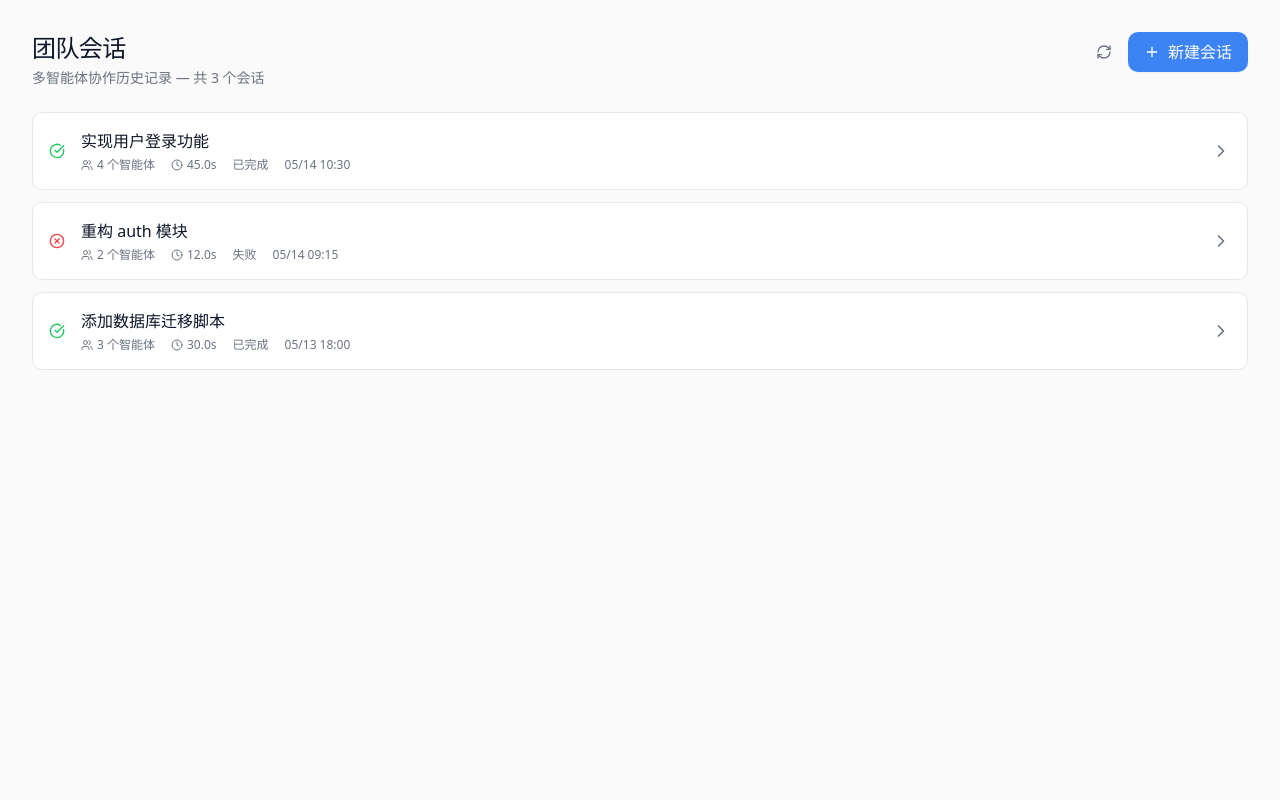
Test: TeamSessionsPage › edge cases › handles empty agent_results in detail modal
What coordinates should you click on to do the following:
click the text "实现用户登录功能"
I would click on:
 (145, 141)
Its box is [81, 130, 209, 152].
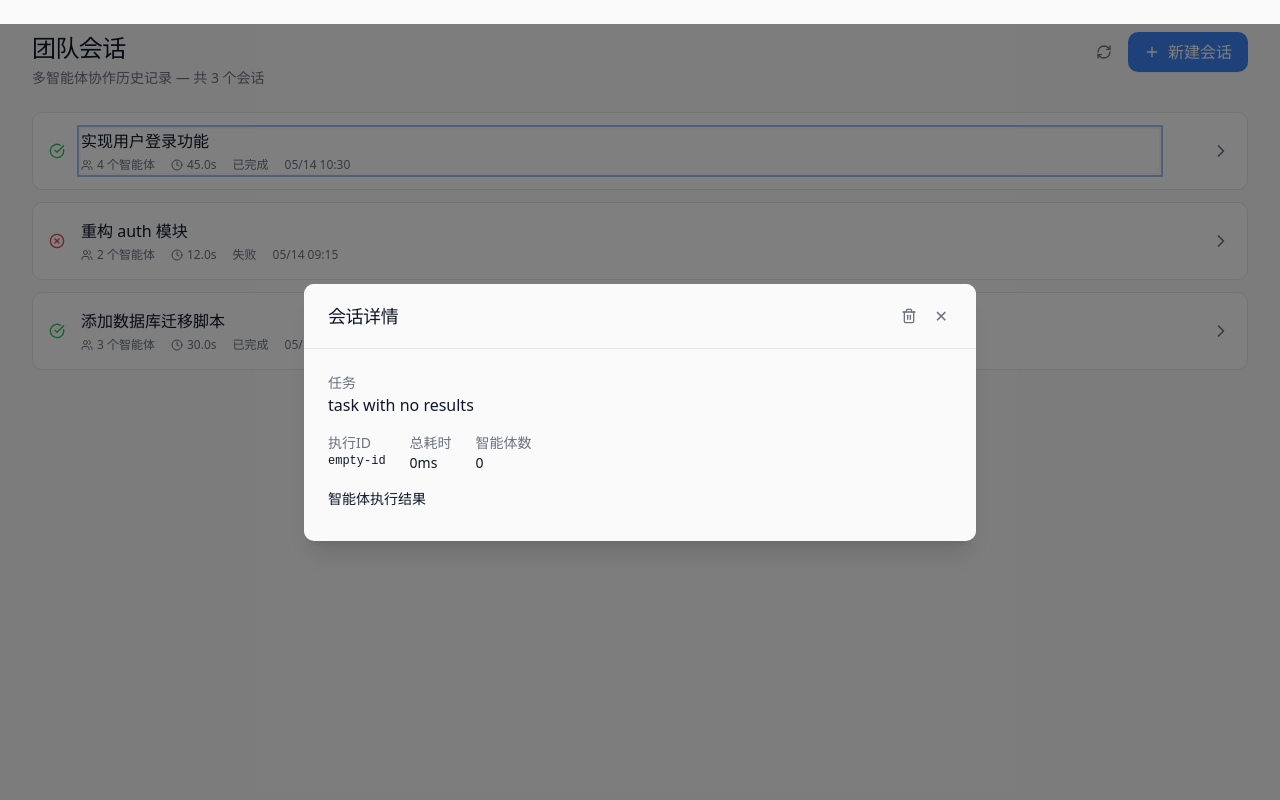
Check: the text "任务" is shown, box [328, 372, 356, 392]
Check: the text "智能体数" is shown, box [476, 432, 532, 452]
